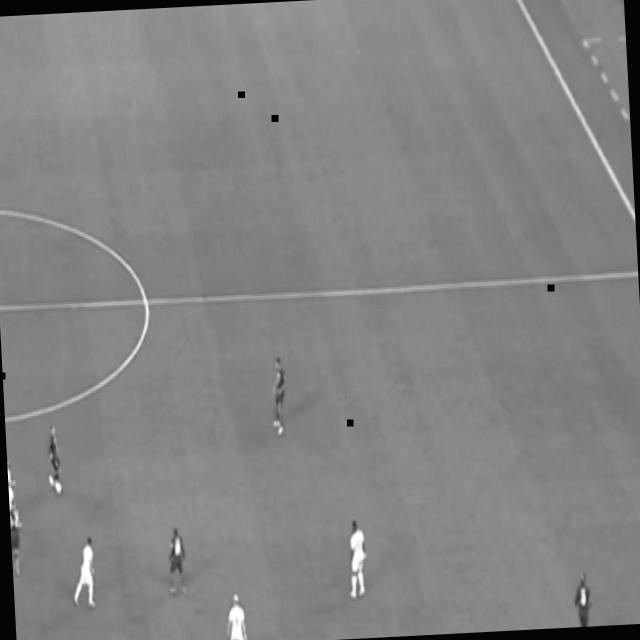player-white: (68, 533, 100, 613), (344, 518, 372, 602), (266, 352, 292, 442), (162, 522, 192, 600), (9, 492, 29, 580), (567, 565, 595, 627), (44, 421, 66, 497), (7, 452, 25, 536), (223, 587, 250, 640)
